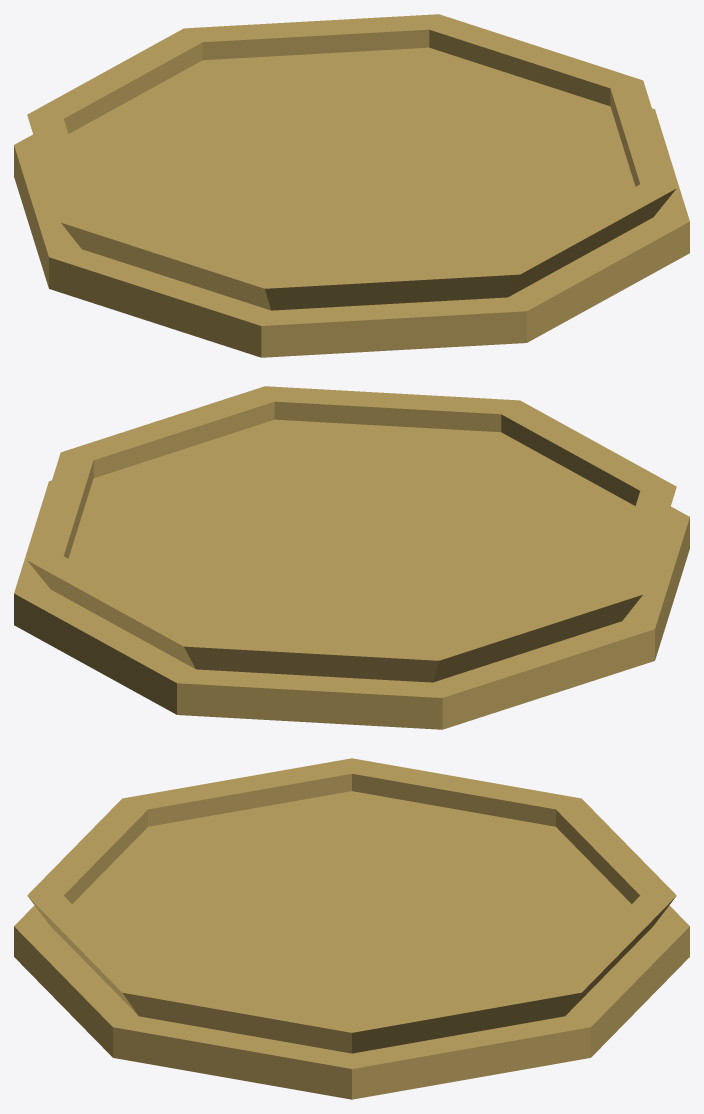
File: tile5 cdparty.fbx
3 renders of one model, top to bottom at view 1: azimuth 30°, elevation 25°; view 2: azimuth 150°, elevation 25°; view 3: azimuth 270°, elevation 25°, orthographic. The views are drawn at different scales.
Parts seen in each view (by area): view 1: pCylinder5; view 2: pCylinder5; view 3: pCylinder5.
Boxes of the visible parts, left/top/right/bottom form: pCylinder5: left=14, top=14, right=689, bottom=357; pCylinder5: left=14, top=386, right=689, bottom=729; pCylinder5: left=14, top=758, right=689, bottom=1099.
Size of the model in its own units: 2 by 0.2 by 2.
